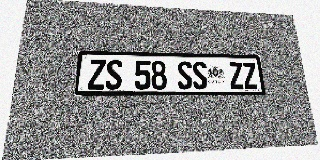5: (135, 60, 151, 89)
8: (151, 60, 167, 89)
S: (105, 59, 123, 89), (177, 61, 193, 89), (192, 61, 208, 89)
Z: (87, 59, 106, 89), (228, 62, 245, 89), (242, 62, 258, 89)
